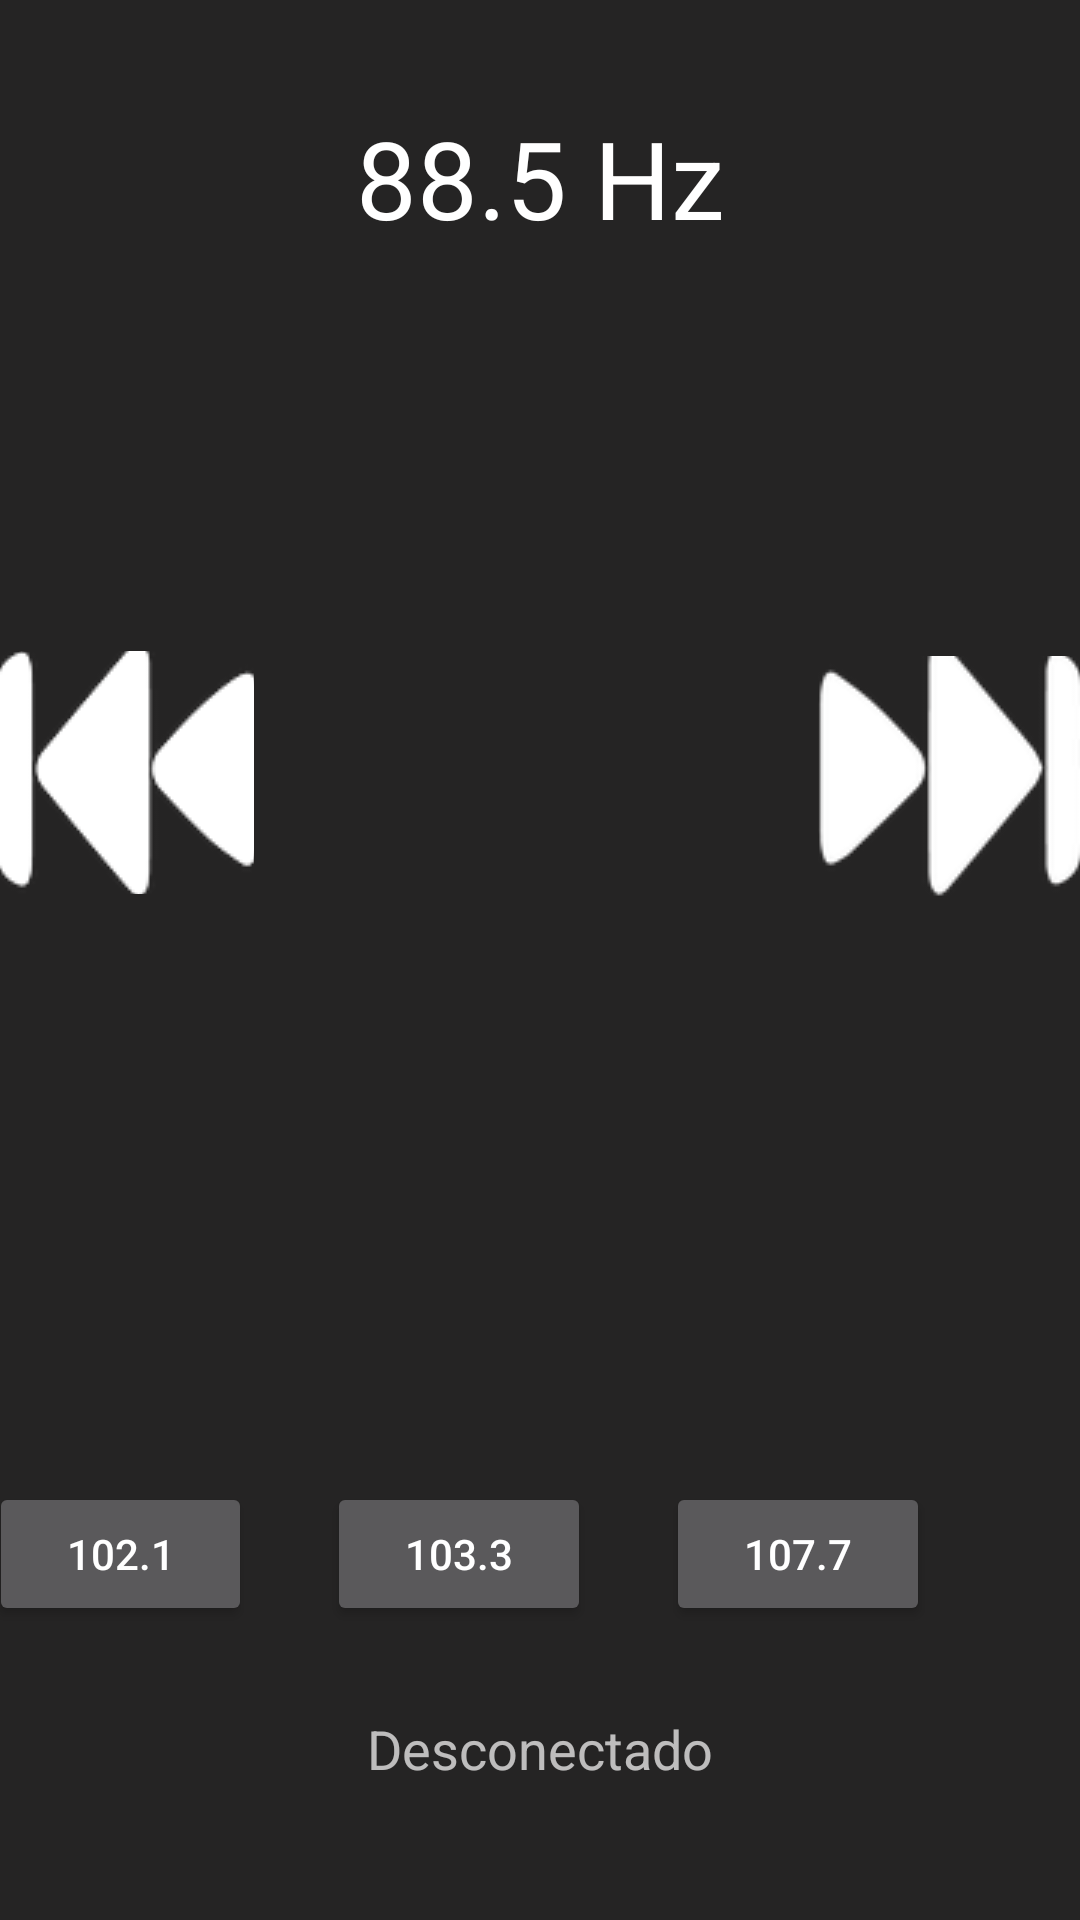

Where to tap for icons on this 1080px×1920px app screen, as (x,y):
skipback: (127,772)
skipforward: (949,776)
